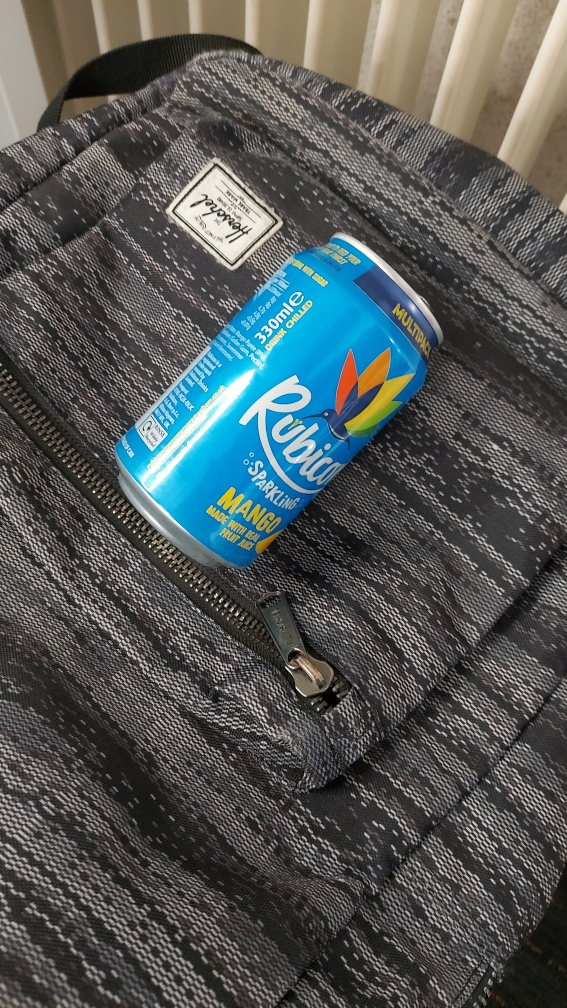can_blue: (84, 186, 446, 611)
